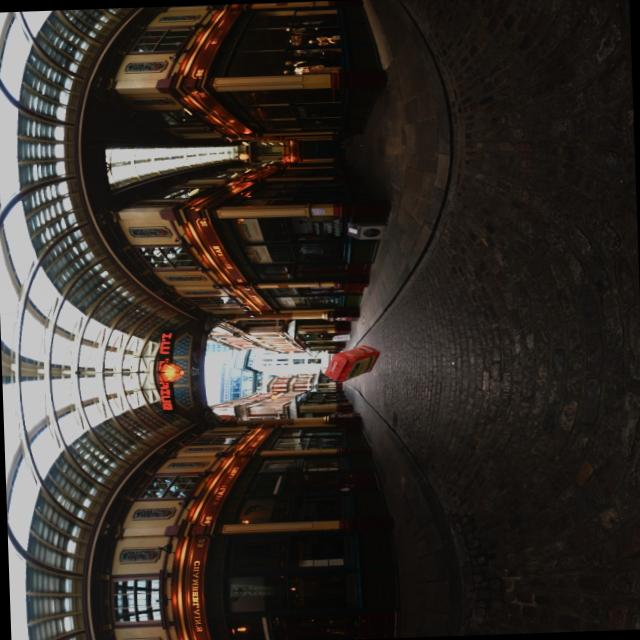mate bag: (322, 342, 381, 380)
